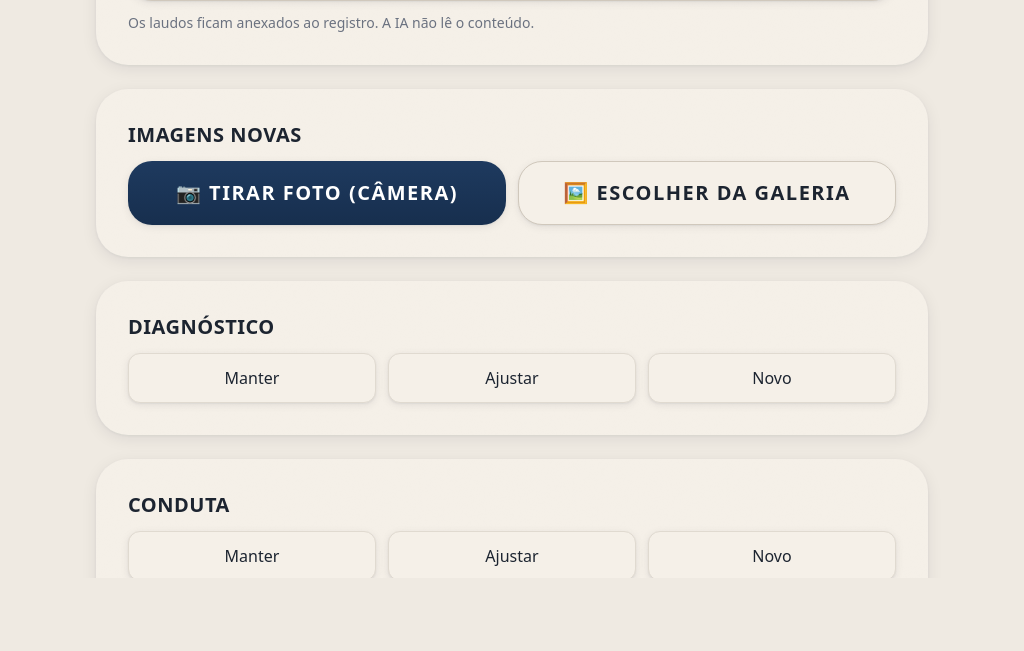
tela de Evolução › falha ao salvar não apaga nada
(page scrolled)
Click the radio button labelled "Manter" below "DIAGNÓSTICO" at (252, 378), box [128,353,376,403]
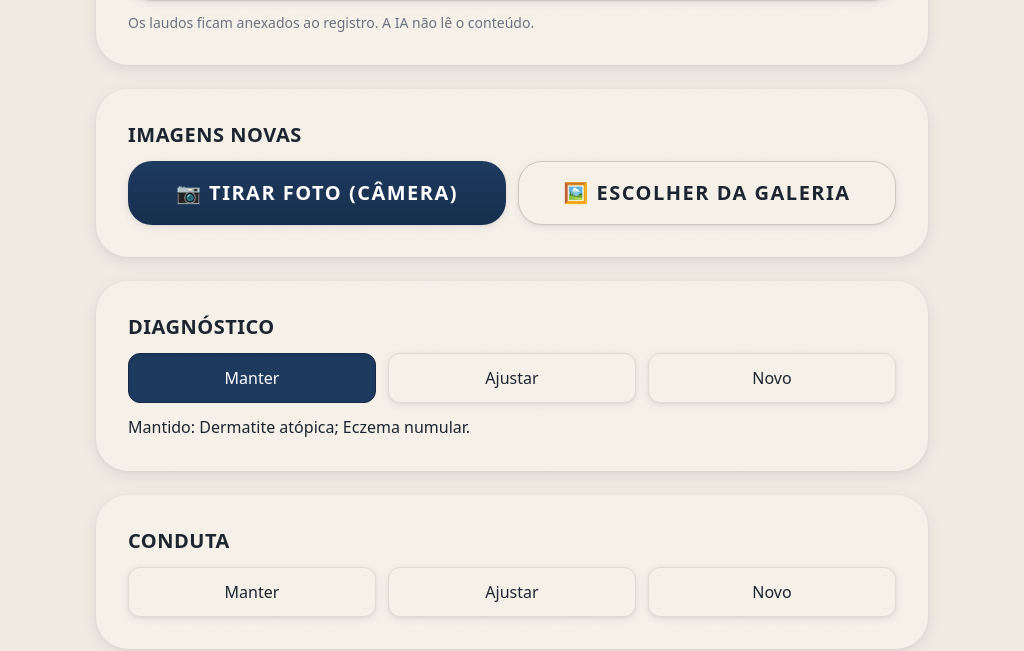
Click the radio button labelled "Manter" below "CONDUTA" at (252, 592), box [128,567,376,617]
(page scrolled)
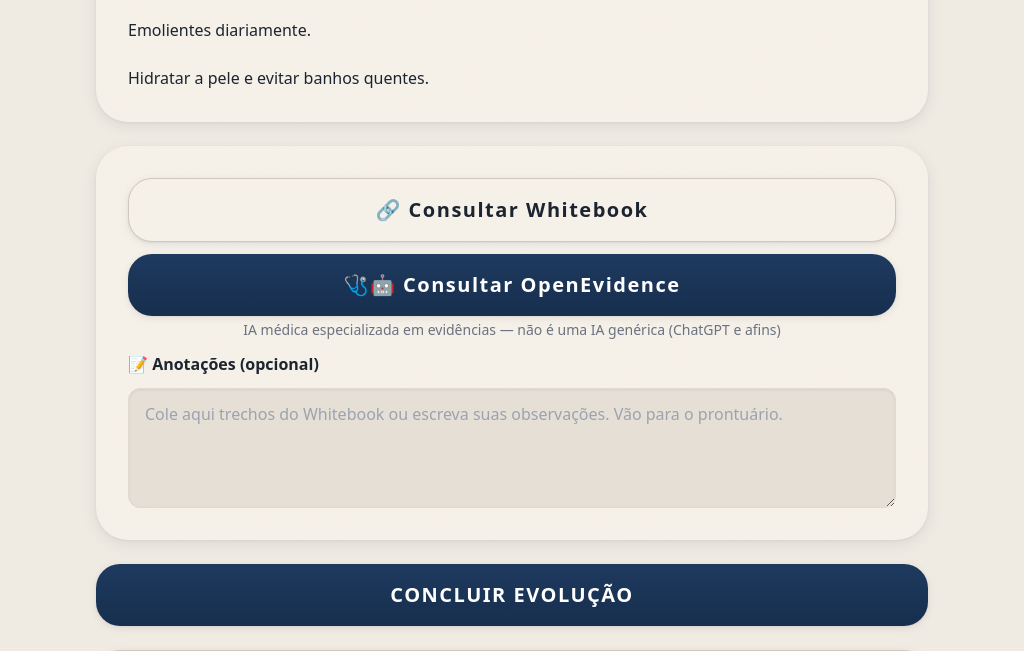
Click the button "CONCLUIR EVOLUÇÃO" at (512, 595), box [96,564,928,626]
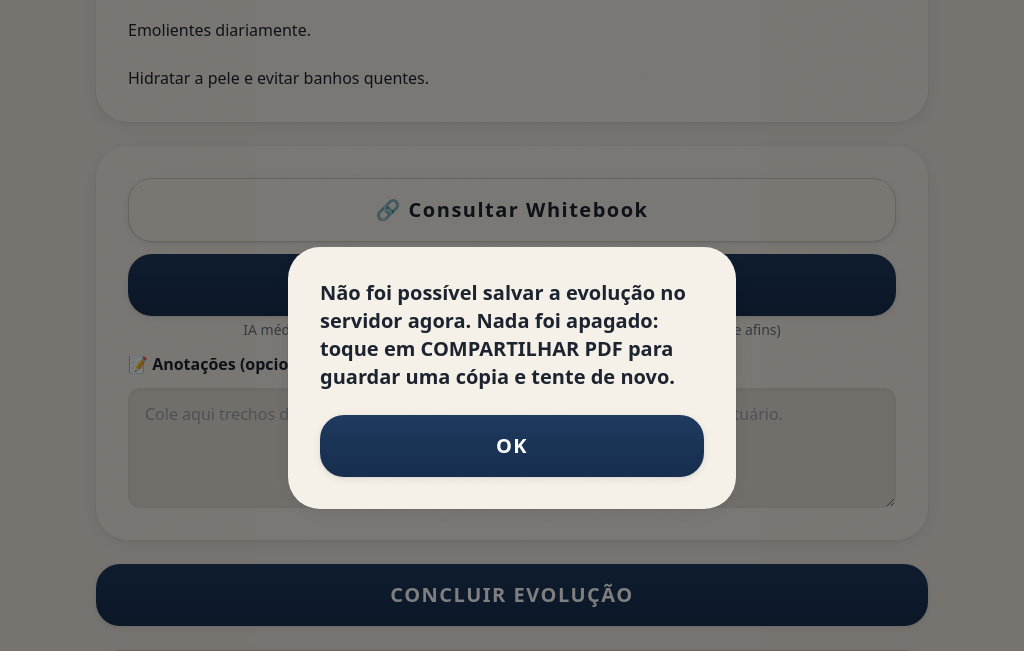
Now the text "Nada foi apagado" is shown, box [320,279,686,390]
